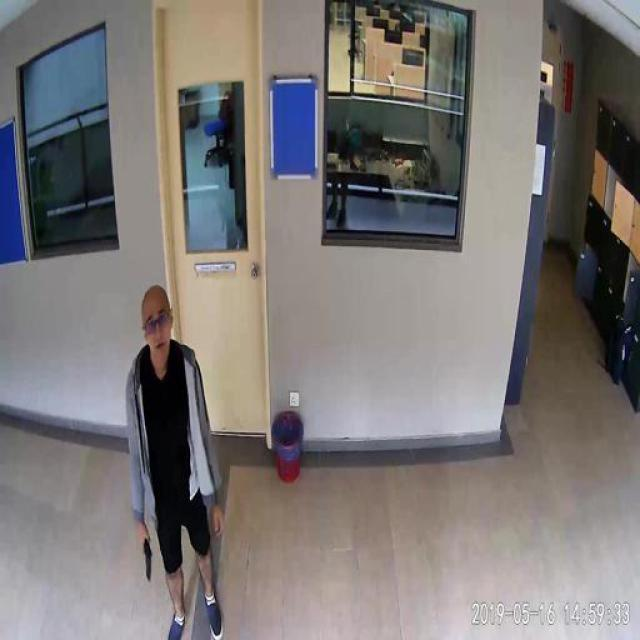weapon: (141, 536, 155, 584)
